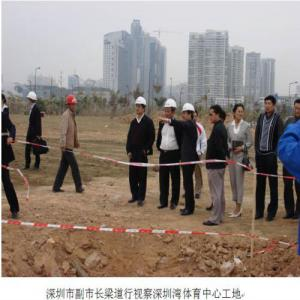none: (209, 105, 223, 125), (264, 96, 277, 116), (233, 103, 245, 120), (294, 100, 300, 120)
red: (67, 94, 78, 112)
white: (182, 103, 195, 123), (164, 100, 177, 119), (136, 98, 147, 118), (28, 92, 38, 107)
